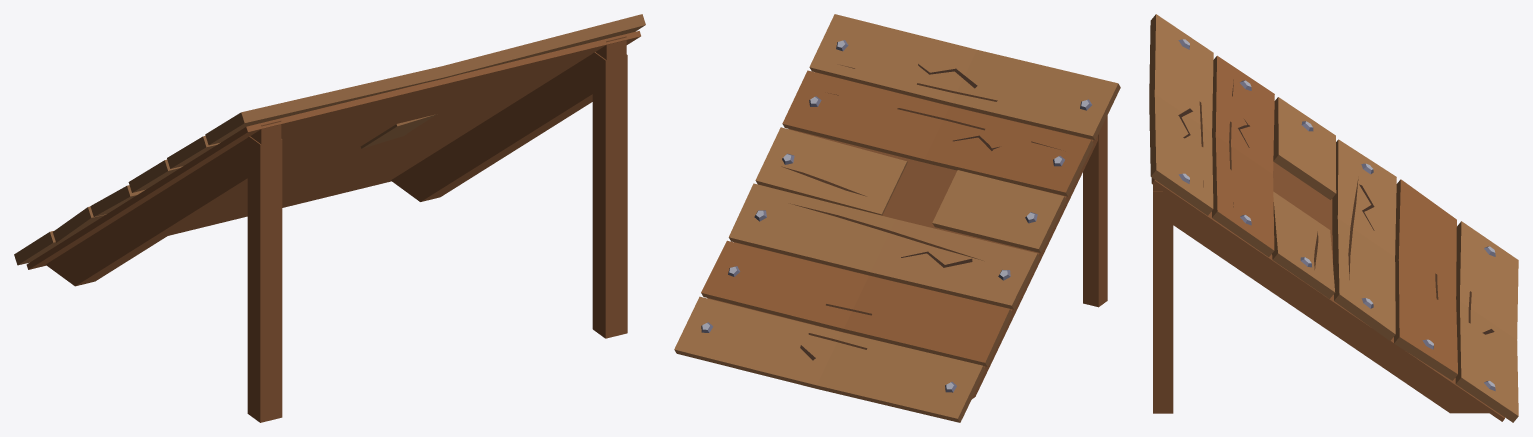
File: ramp_plank_crack2.glb
3 views of the same model, side by side, from view 1: azimuth 30°, elevation 25°; view 2: azimuth 150°, elevation 25°; view 3: azimuth 270°, elevation 25° (orthographic). The views are drawn at different scales.
Parts seen in each view (by area): view 1: Body; view 2: Body; view 3: Body.
Part boxes in pixels (x1,y1,x2,y2): Body: (14,14,645,422); Body: (674,14,1120,422); Body: (1149,14,1518,422).
Size of the model in its own units: 4 by 3.04 by 4.
